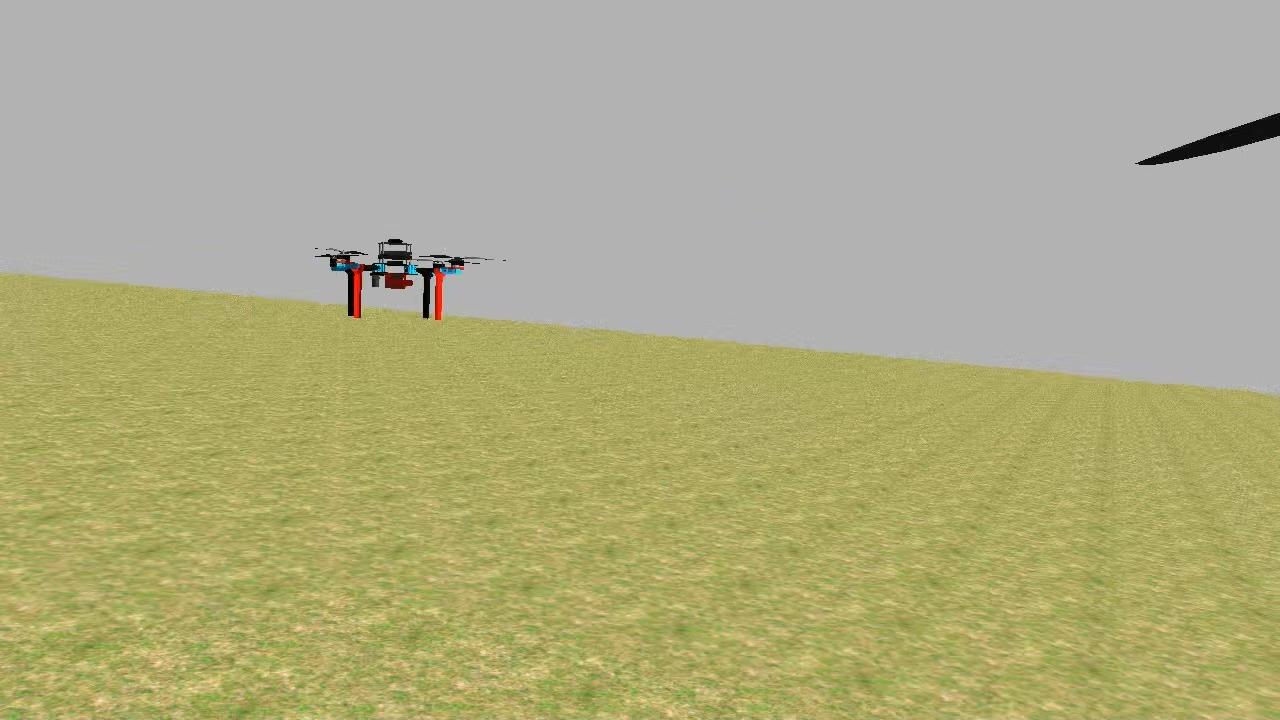UAV: (320, 227, 469, 330)
